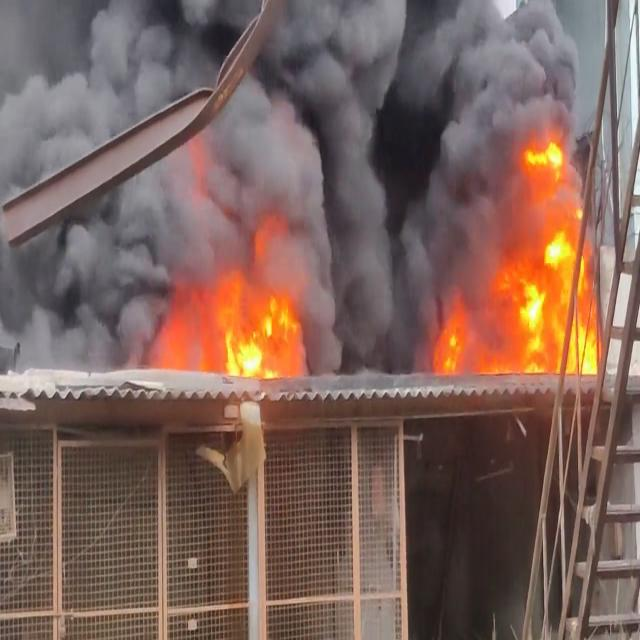Fire: (432, 132, 580, 375), (172, 271, 307, 379)
Smoke: (0, 0, 576, 375), (0, 0, 266, 188)
